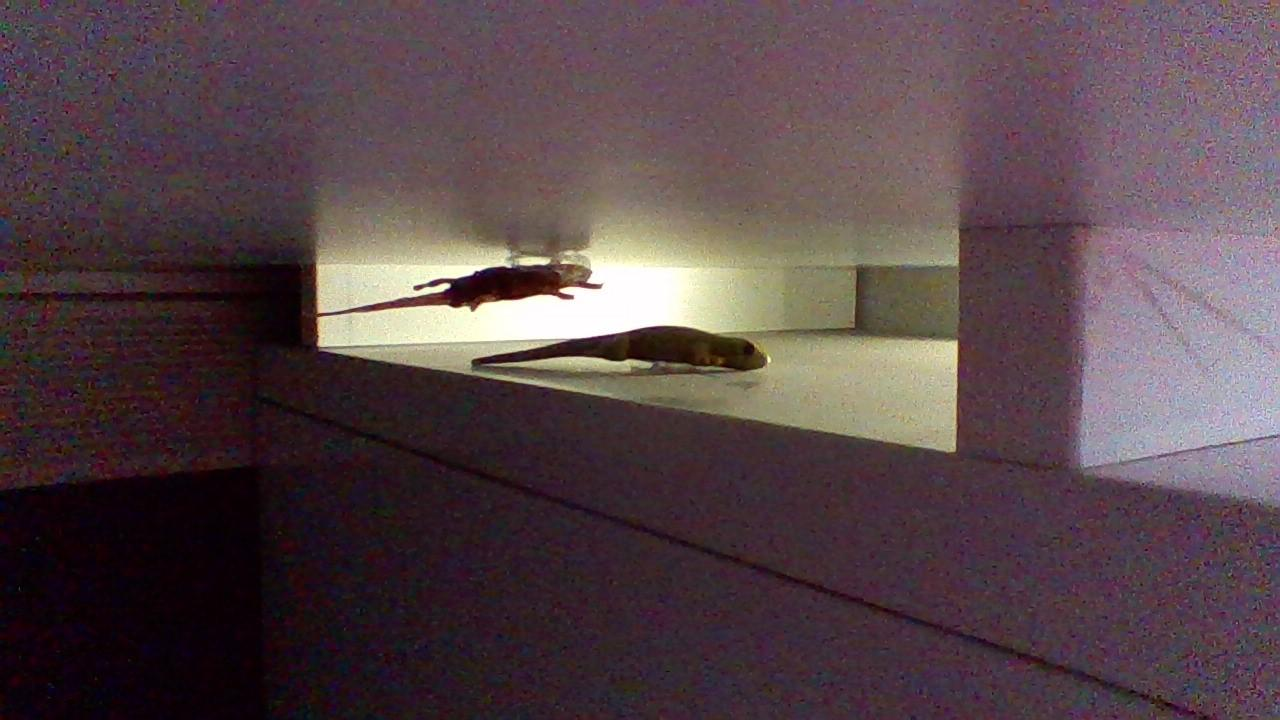cockroach: (402, 255, 593, 309)
lizard: (469, 315, 770, 388)
